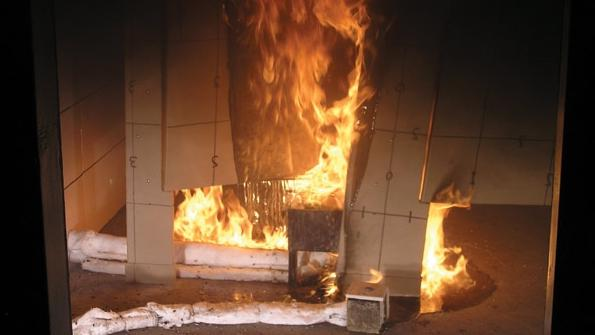fire: (173, 10, 386, 268), (416, 192, 478, 318)
